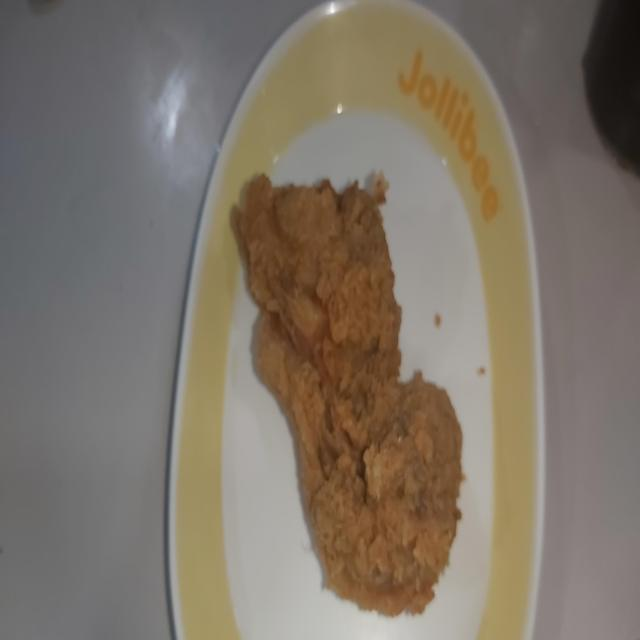Chicken -Fried Chicken-: (206, 167, 464, 612)
